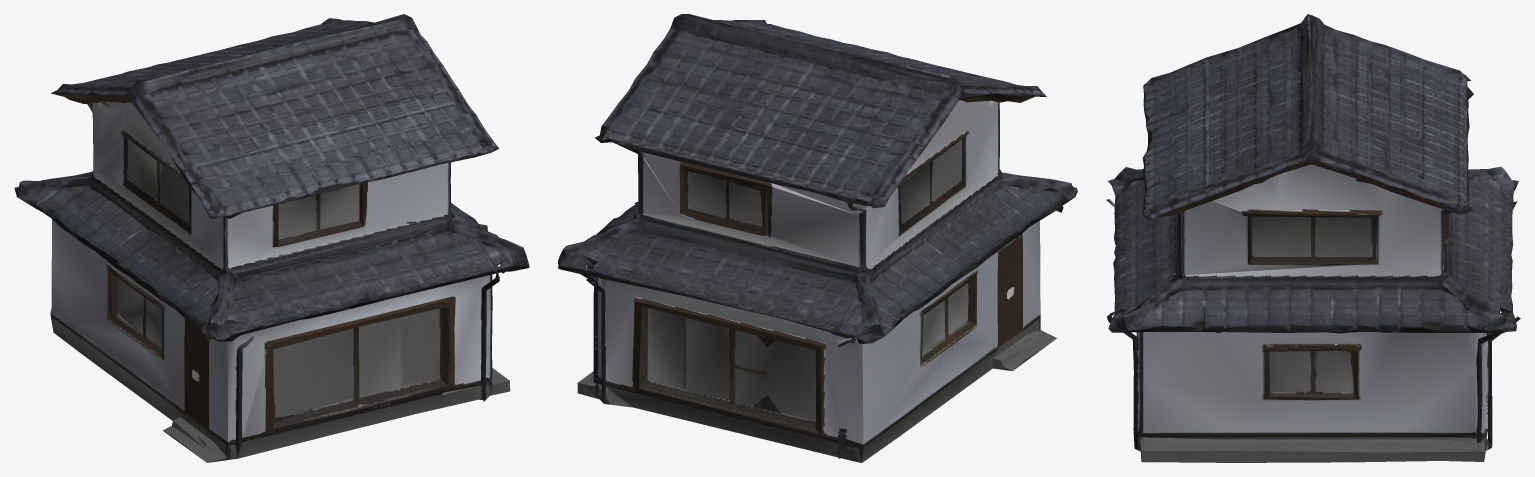
Rendered from house.glb.
The picture shows the model from 3 angles, left to right: view 1: azimuth 30°, elevation 25°; view 2: azimuth 150°, elevation 25°; view 3: azimuth 270°, elevation 25°; orthographic projection. The views are drawn at different scales.
Visible parts, largest first — view 1: house; view 2: house; view 3: house.
Part boxes in pixels (box(x1,y1,x2,y2)): house: box(14, 14, 529, 462); house: box(558, 14, 1077, 462); house: box(1106, 14, 1520, 462).
Size of the model in its own units: 7.96 by 7.5 by 9.02.
Materials: 1 (1 with a texture image).
